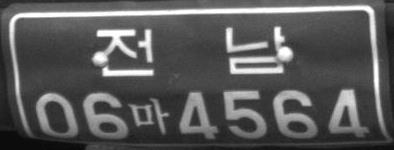0: (35, 91, 79, 137)
4: (327, 88, 369, 137), (179, 91, 218, 141)
5: (222, 89, 267, 139)
6: (82, 91, 128, 141), (272, 89, 318, 138)
마: (129, 97, 169, 135)
전남_D: (95, 26, 285, 76)
